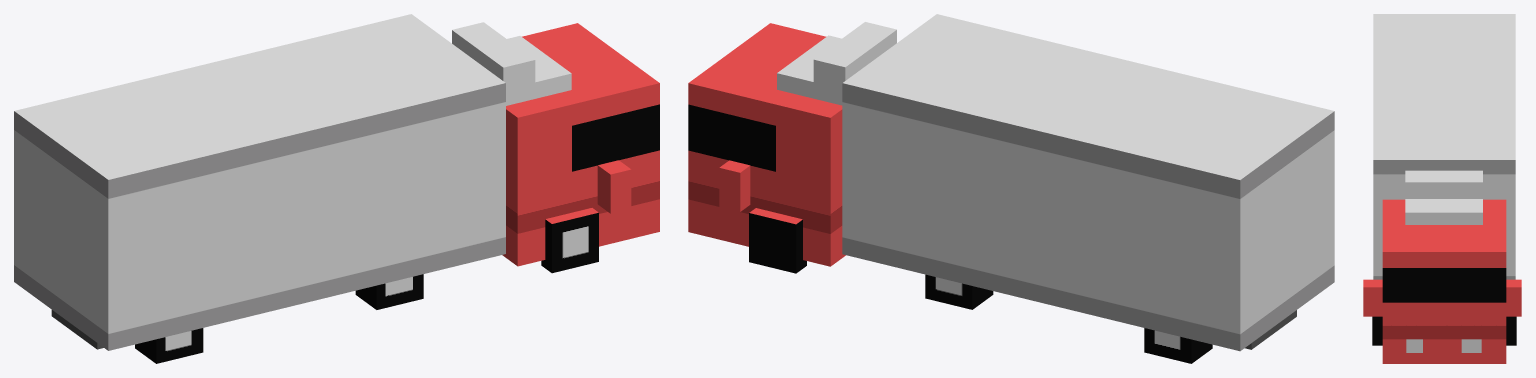
The model's file is Red_Truck.fbx.
The picture shows the model from 3 angles, left to right: view 1: azimuth 30°, elevation 25°; view 2: azimuth 150°, elevation 25°; view 3: azimuth 270°, elevation 25°; orthographic projection. The views are drawn at different scales.
Visible parts, largest first — view 1: pCube9; view 2: pCube9; view 3: pCube9.
Part boxes in pixels (x1=…): pCube9: x1=14, y1=14, x2=659, y2=363; pCube9: x1=688, y1=14, x2=1334, y2=363; pCube9: x1=1363, y1=14, x2=1521, y2=363.
Bounding box in the file's own units: 11.86 × 4.08 × 3.87.
